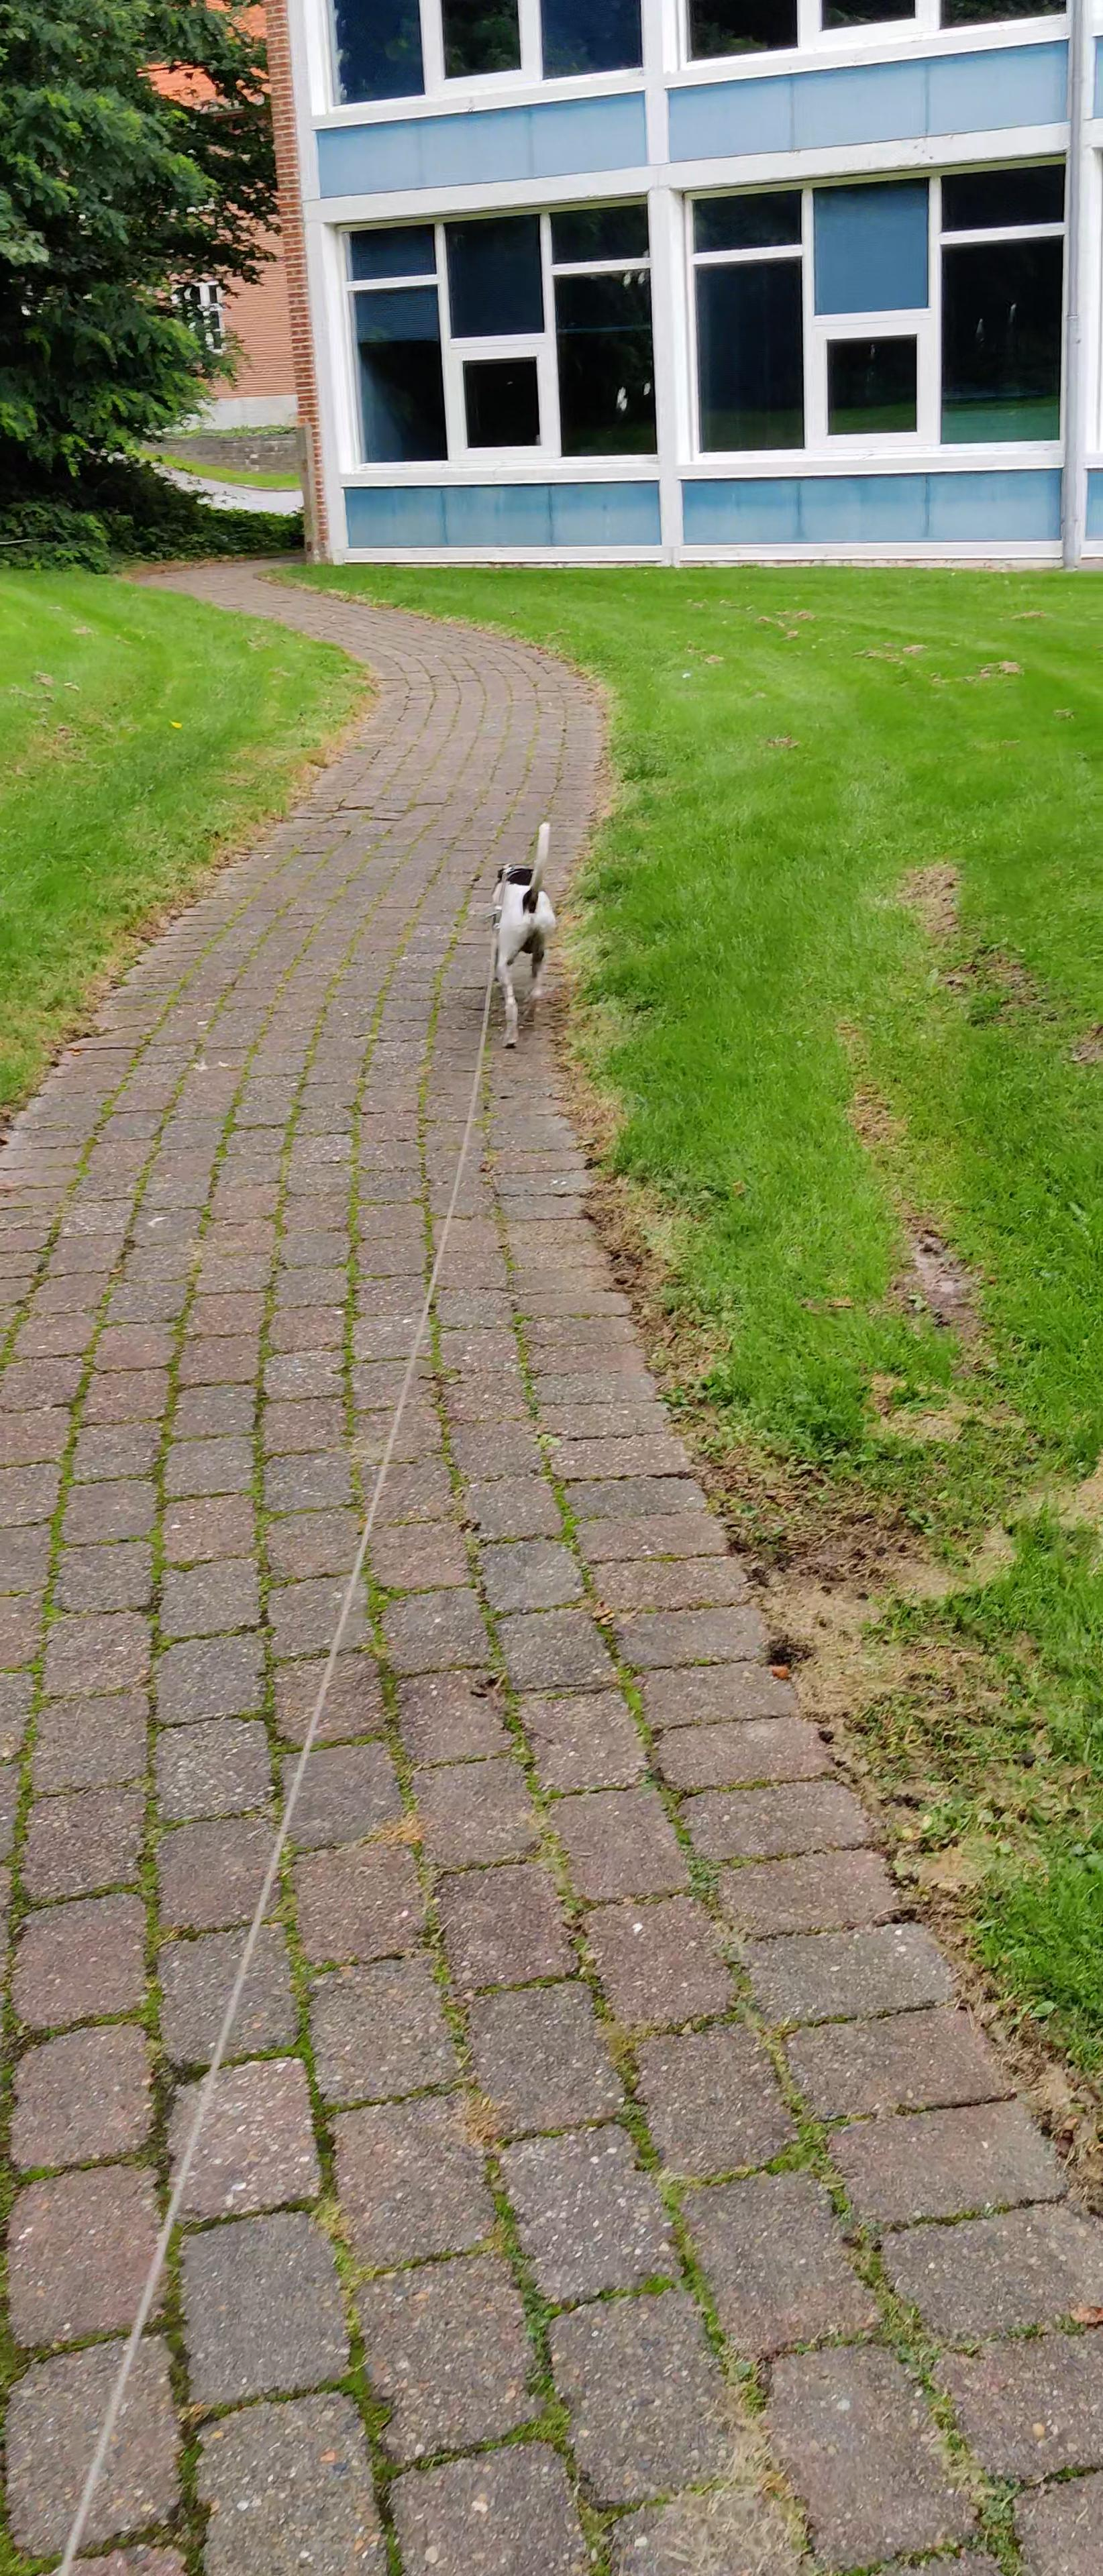Dog: (465, 812, 565, 1056)
